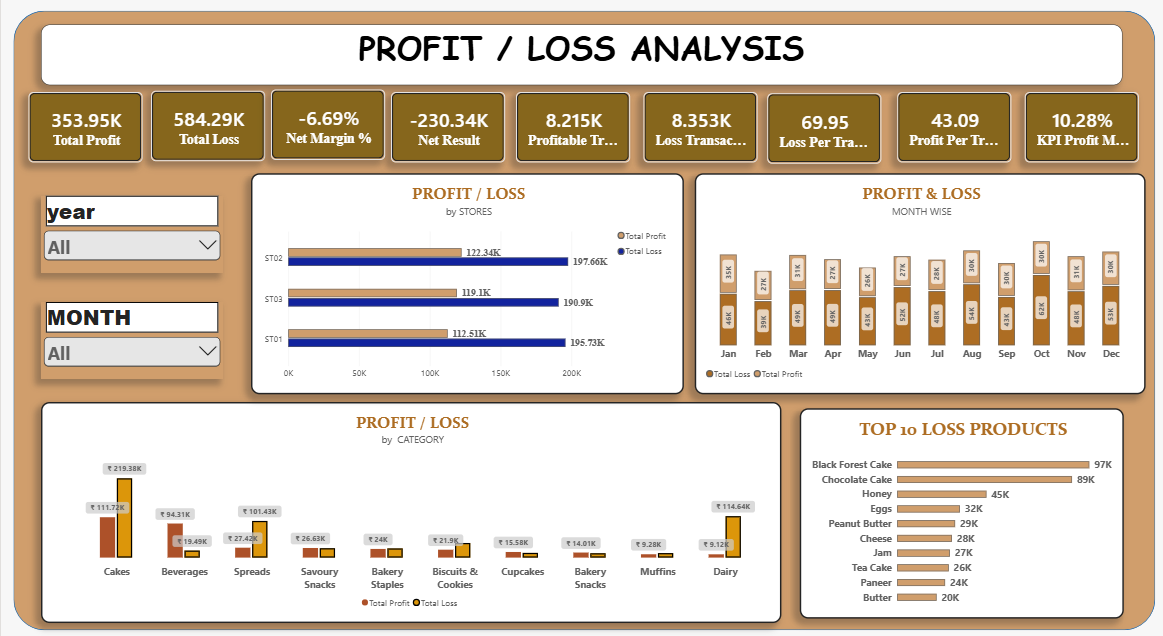

Layout of this report page (visuals, bound fields, positions):
{"tool":"powerbi","page":{"name":"PROFIT/LOSS","canvas":[1920,1080],"ordinal":1},"visuals":[{"type":"shape","box":[20,30,1880,1020],"z":0},{"type":"cardVisual","fields":{"Data":["_Measures.Total Profit"]},"box":[45,165.8,188,116],"z":0,"group":"g1"},{"type":"textbox","box":[66,53.2,1780.9,100],"z":1000},{"type":"cardVisual","fields":{"Data":["_Measures.Total Loss"]},"box":[247,164,188,116],"z":1000,"group":"g1"},{"type":"cardVisual","fields":{"Data":["_Measures.Net Margin %"]},"box":[445,161.5,188,116],"z":2000,"group":"g1"},{"type":"lineStackedColumnComboChart","title":"PROFIT  & LOSS","fields":{"Category":["bakery_synthetic_dataset.MONTH NAME"],"Y":["_Measures.Total Loss","_Measures.Total Profit"]},"box":[1142.6,297.9,742.6,363.8],"z":2000},{"type":"cardVisual","fields":{"Data":["_Measures.Profit Transactions"]},"box":[847.5,166.5,188,116],"z":3000,"group":"g1"},{"type":"lineClusteredColumnComboChart","title":"PROFIT / LOSS","fields":{"Category":["bakery_synthetic_dataset.Category"],"Y":["_Measures.Total Profit","_Measures.Total Loss"]},"box":[66,674.5,1219.1,363.8],"z":3000},{"type":"cardVisual","fields":{"Data":["_Measures.Net Result"]},"box":[642.5,165,188,116],"z":4000},{"type":"cardVisual","fields":{"Data":["_Measures.Loss Transactions"]},"box":[1057.5,166.5,188,116],"z":4000,"group":"g1"},{"type":"cardVisual","fields":{"Data":["_Measures.Loss Per Transaction"]},"box":[1260.8,167.5,188,116],"z":5000,"group":"g1"},{"type":"clusteredBarChart","title":"PROFIT / LOSS","fields":{"Category":["bakery_synthetic_dataset.Store_ID"],"Y":["_Measures.Total Profit","_Measures.Total Loss"]},"box":[410.6,297.9,712.8,363.8],"z":5000},{"type":"cardVisual","fields":{"Data":["_Measures.Profit Per Transaction"]},"box":[1475.8,165,188,116],"z":6000,"group":"g1"},{"type":"barChart","title":"TOP 10 LOSS PRODUCTS","fields":{"Category":["bakery_synthetic_dataset.Product"],"Y":["_Measures.Total Loss"]},"box":[1315,685,533.3,346.7],"z":6000},{"type":"cardVisual","fields":{"Data":["_Measures.KPI Profit Margin"]},"box":[1685.8,165.8,188,116],"z":7000,"group":"g1"},{"type":"slicer","fields":{"Values":["bakery_synthetic_dataset.MONTH"]},"box":[66,510.6,300,127.5],"z":7000},{"type":"slicer","fields":{"Values":["bakery_synthetic_dataset.year"]},"box":[66,336.2,300,127.5],"z":8000},{"type":"group","id":"g1","title":"Group 1","box":[45,161.5,1828.8,122],"z":9000}]}

Visuals, with their boxes in screenshot pixels (x1, y1, x2, y2), scaled from the page's 1920x1080 canvas onto the 1163x636 screenshot:
shape: bbox(12, 18, 1151, 618)
cardVisual - _Measures.Total Profit: bbox(27, 98, 141, 166)
textbox: bbox(40, 31, 1119, 90)
cardVisual - _Measures.Total Loss: bbox(150, 97, 263, 165)
cardVisual - _Measures.Net Margin %: bbox(270, 95, 383, 163)
"PROFIT  & LOSS" lineStackedColumnComboChart: bbox(692, 175, 1142, 390)
cardVisual - _Measures.Profit Transactions: bbox(513, 98, 627, 166)
"PROFIT / LOSS" lineClusteredColumnComboChart: bbox(40, 397, 778, 611)
cardVisual - _Measures.Net Result: bbox(389, 97, 503, 165)
cardVisual - _Measures.Loss Transactions: bbox(641, 98, 754, 166)
cardVisual - _Measures.Loss Per Transaction: bbox(764, 99, 878, 167)
"PROFIT / LOSS" clusteredBarChart: bbox(249, 175, 680, 390)
cardVisual - _Measures.Profit Per Transaction: bbox(894, 97, 1008, 165)
"TOP 10 LOSS PRODUCTS" barChart: bbox(797, 403, 1120, 608)
cardVisual - _Measures.KPI Profit Margin: bbox(1021, 98, 1135, 166)
slicer - bakery_synthetic_dataset.MONTH: bbox(40, 301, 222, 376)
slicer - bakery_synthetic_dataset.year: bbox(40, 198, 222, 273)
"Group 1" group: bbox(27, 95, 1135, 167)
